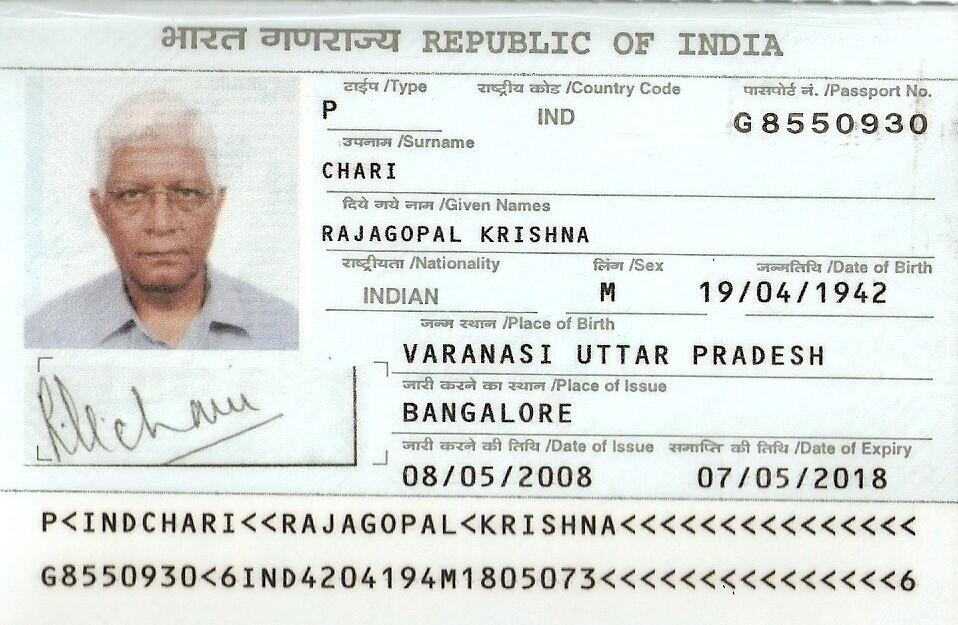DOB: (696, 268, 889, 311)
Surname: (313, 150, 489, 189)
country_code: (528, 93, 600, 136)
date_of_expiry: (691, 455, 904, 497)
date_of_issue: (401, 448, 601, 495)
details: (33, 498, 923, 616)
name: (300, 209, 632, 252)
nationality: (329, 269, 547, 312)
passport_no: (727, 84, 944, 146)
photo: (28, 84, 298, 348)
place_of_birth: (399, 330, 831, 374)
place_of_issue: (399, 389, 601, 431)
sex: (579, 271, 650, 311)
sign: (28, 356, 331, 480)
type: (315, 91, 396, 124)
